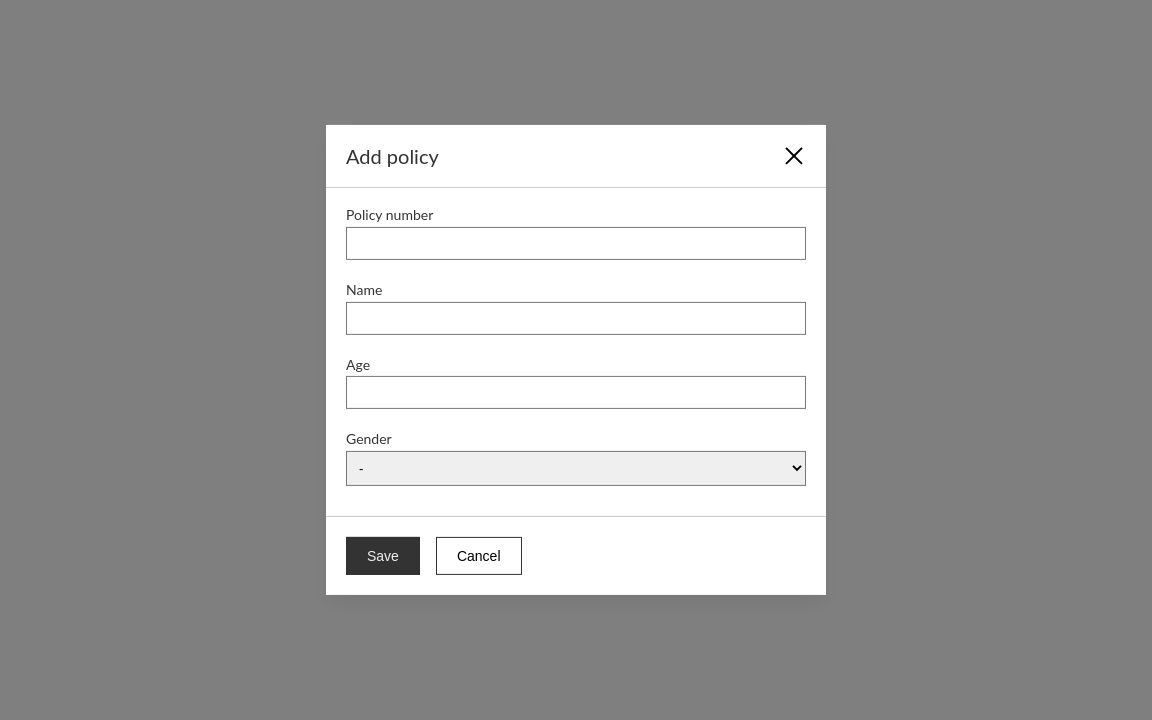
Scenario: Policy form validation tests › when policy number is 0 or less, shows relevant error
Type "-1" into the field labelled "Policy number" at (576, 243), box [346,227,806,260]
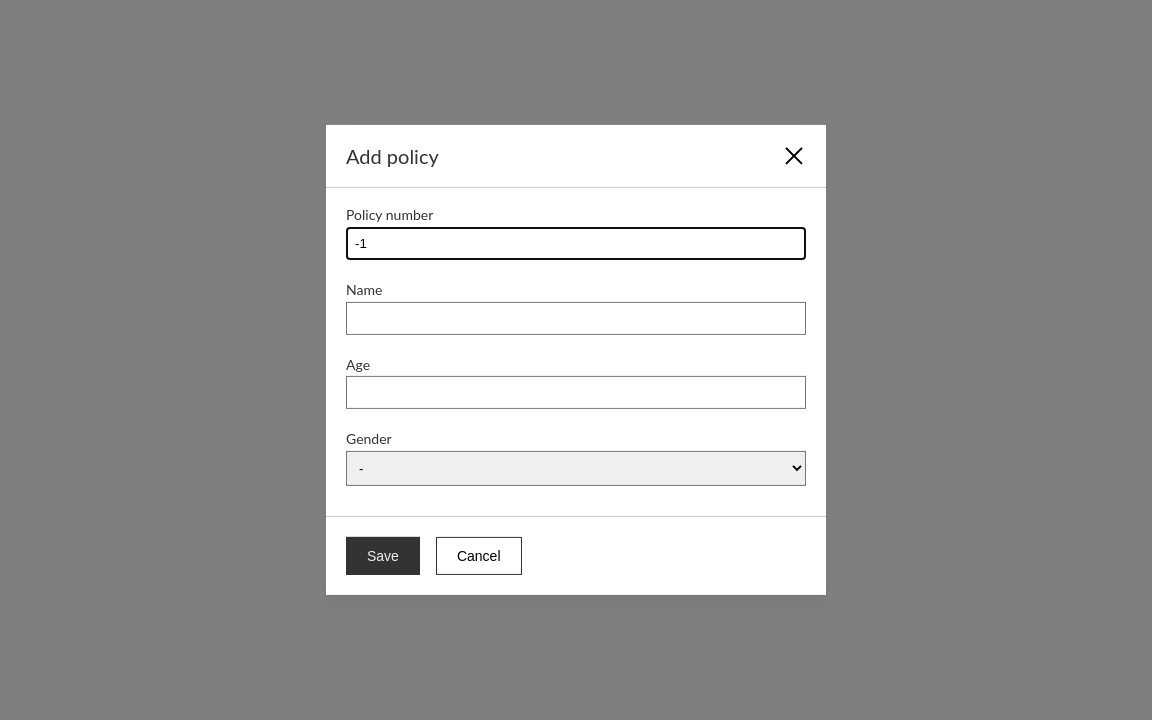
Click the button "Save" at (383, 556), box [346,537,420,575]
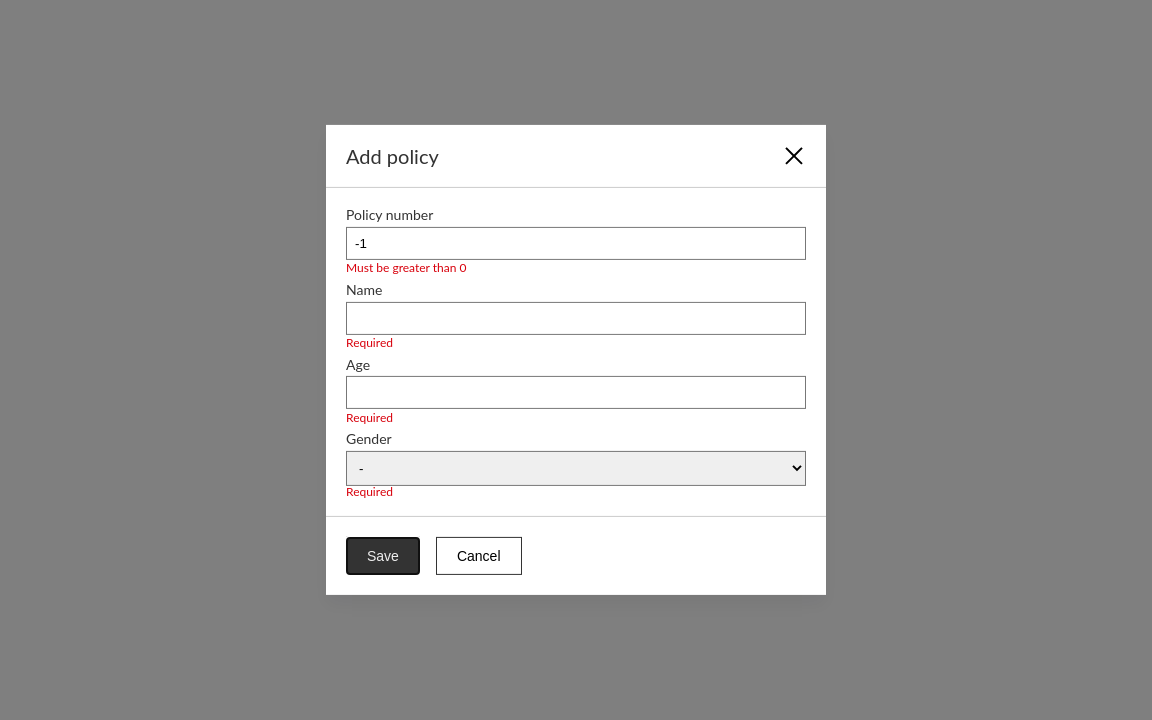
Result: the text "Must be greater than 0" is shown at [346,258,466,278]
